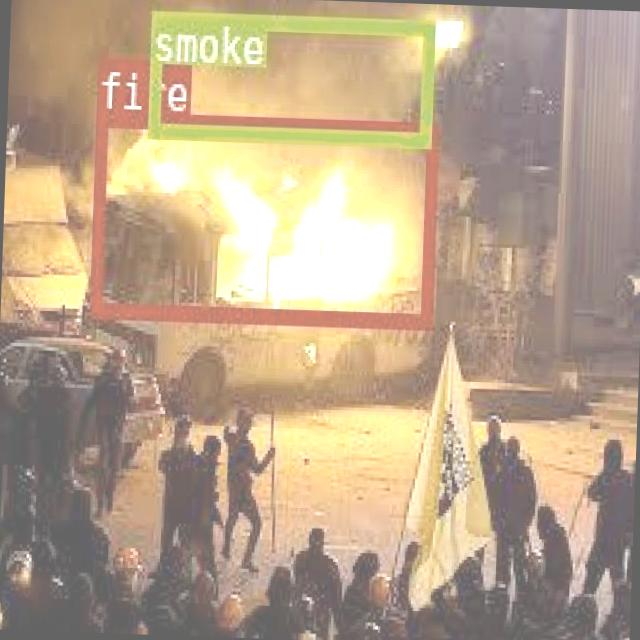fire: (88, 110, 434, 325)
smoke: (146, 9, 433, 146)
